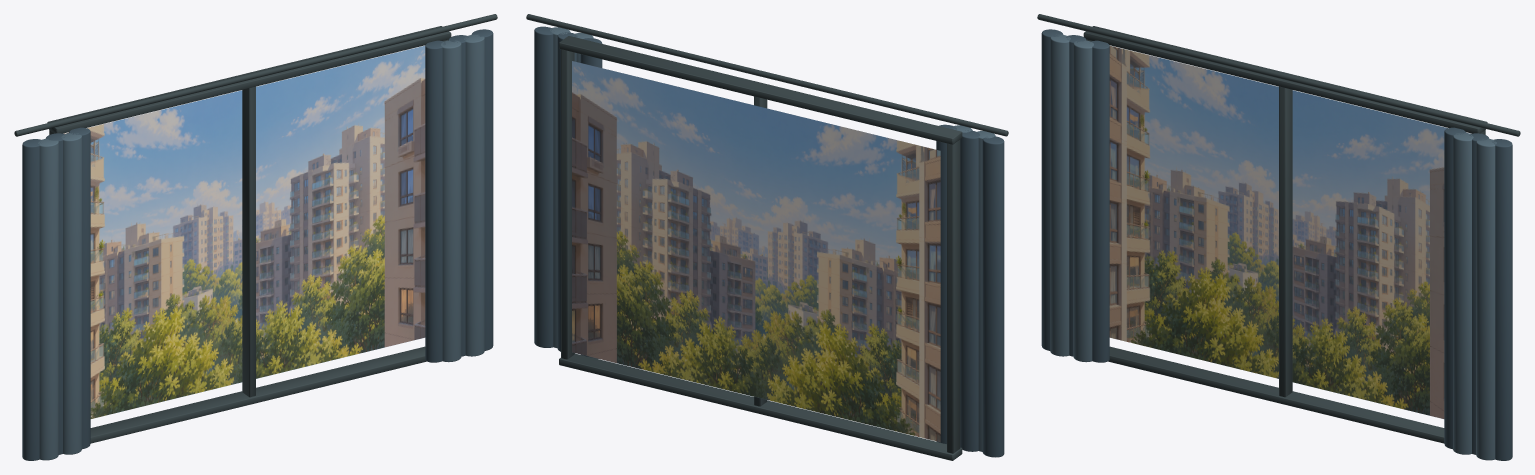
File: urban-city-window-v1.glb
3 views of the same model, side by side, from view 1: azimuth 30°, elevation 25°; view 2: azimuth 150°, elevation 25°; view 3: azimuth 330°, elevation 25° (orthographic).
Visible parts, largest first — view 1: Neighbourhood through glazing, Soft hanging curtain fold.008, Soft hanging curtain fold.006, Soft hanging curtain fold.003, Soft hanging curtain fold.001, Soft hanging curtain fold.005, Soft hanging curtain fold.004, Sliding rail, Sliding frame.001, Sliding rail.001, Soft hanging curtain fold.009, Curtain pole (+3 smaller); view 2: Neighbourhood through glazing, Soft hanging curtain fold.004, Sliding rail.001, Soft hanging curtain fold.009, Sliding rail, Soft hanging curtain fold.002, Sliding frame, Sliding frame.002, Curtain pole, Soft hanging curtain fold, Soft hanging curtain fold.008, Soft hanging curtain fold.003 (+1 smaller); view 3: Neighbourhood through glazing, Soft hanging curtain fold.003, Soft hanging curtain fold.001, Soft hanging curtain fold.008, Soft hanging curtain fold.006, Soft hanging curtain fold.009, Soft hanging curtain fold, Sliding rail, Sliding frame.001, Sliding rail.001, Soft hanging curtain fold.004, Curtain pole (+3 smaller).
Part boxes in pixels (x1,y1,x2,y2): Neighbourhood through glazing: [64, 45, 425, 418]; Soft hanging curtain fold.008: [464, 34, 484, 356]; Soft hanging curtain fold.006: [441, 40, 461, 362]; Soft hanging curtain fold.003: [38, 138, 58, 460]; Soft hanging curtain fold.001: [61, 133, 81, 454]; Soft hanging curtain fold.005: [425, 40, 445, 362]; Soft hanging curtain fold.004: [22, 139, 41, 460]; Sliding rail: [90, 346, 426, 443]; Sliding frame.001: [242, 86, 255, 397]; Sliding rail.001: [47, 26, 451, 133]; Soft hanging curtain fold.009: [471, 29, 493, 350]; Curtain pole: [14, 14, 497, 136]; Neighbourhood through glazing: [572, 61, 940, 442]; Soft hanging curtain fold.004: [982, 136, 1004, 457]; Sliding rail.001: [559, 36, 962, 144]; Soft hanging curtain fold.009: [534, 26, 554, 347]; Sliding rail: [559, 353, 962, 460]; Soft hanging curtain fold.002: [960, 130, 979, 451]; Sliding frame: [947, 139, 960, 453]; Sliding frame.002: [561, 49, 574, 359]; Curtain pole: [526, 14, 1008, 136]; Soft hanging curtain fold: [936, 124, 956, 443]; Soft hanging curtain fold.008: [550, 27, 570, 348]; Soft hanging curtain fold.003: [977, 131, 995, 451]; Neighbourhood through glazing: [1109, 45, 1470, 418]; Soft hanging curtain fold.003: [1050, 34, 1070, 356]; Soft hanging curtain fold.001: [1073, 40, 1093, 362]; Soft hanging curtain fold.008: [1476, 138, 1496, 460]; Soft hanging curtain fold.006: [1453, 133, 1473, 454]; Soft hanging curtain fold.009: [1492, 139, 1512, 460]; Soft hanging curtain fold: [1091, 40, 1109, 362]; Sliding rail: [1108, 346, 1444, 443]; Sliding frame.001: [1279, 86, 1292, 397]; Sliding rail.001: [1083, 26, 1487, 133]; Soft hanging curtain fold.004: [1041, 29, 1063, 350]; Curtain pole: [1037, 14, 1520, 136].
Size of the model in its own units: 2.24 by 1.48 by 0.1709.
4 materials, 4 textured.
